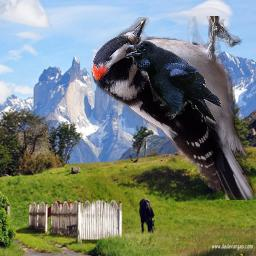Crow: (125, 40, 222, 124)
Woodpecker: (88, 16, 256, 200)
